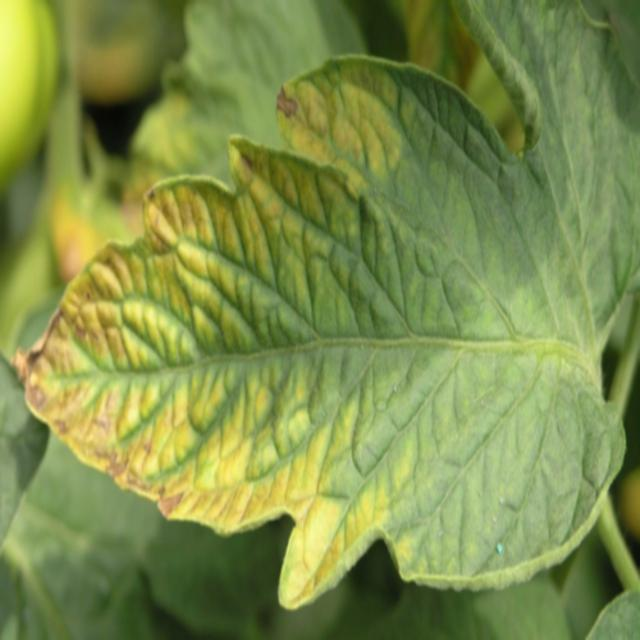Chlorosis: (15, 104, 538, 603)
